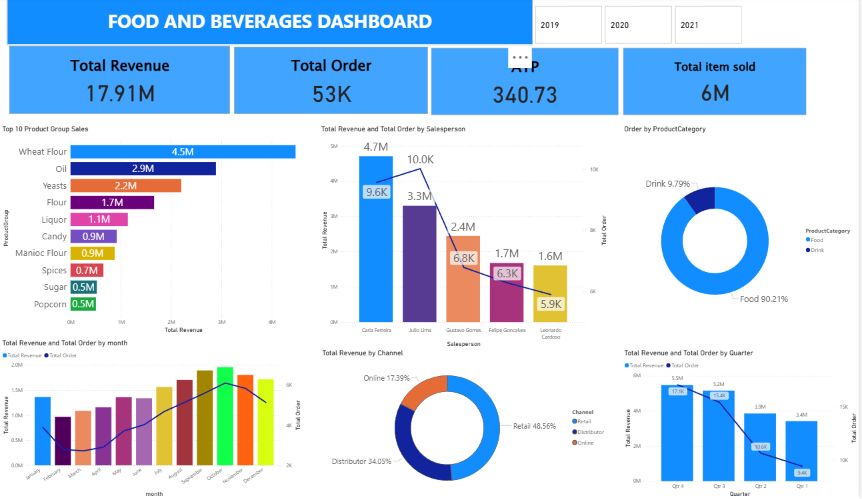

The page's visual inventory and layout, read from the dashboard file:
{"tool":"powerbi","page":{"name":"Page 1","canvas":[2050,1200],"ordinal":0},"visuals":[{"type":"cardVisual","title":"Revenue Total","fields":{"Data":["Sales.Total Revenue"]},"box":[17.5,112.5,537.5,172.5],"z":0},{"type":"cardVisual","title":"Revenue Total","fields":{"Data":["Sales.ATP"]},"box":[1025,117.5,457.5,170],"z":1000},{"type":"cardVisual","title":"Revenue Total","fields":{"Data":["Sales.Total Order"]},"box":[555,115,472.5,170],"z":2000},{"type":"cardVisual","title":"Revenue Total","fields":{"Data":["Sales.Total item sold"]},"box":[1482.5,117.5,447.5,170],"z":3000},{"type":"barChart","title":"Top 10  Product Group Sales","fields":{"Category":["Product.ProductGroup"],"Y":["Sales.Total Revenue"],"Series":["Product.ProductGroup"]},"box":[0,305,722.5,502.5],"z":4000},{"type":"lineClusteredColumnComboChart","fields":{"Category":["Sales.Salesperson"],"Y2":["Sales.Total Order"],"Y":["Sales.Total Revenue"]},"box":[762.5,305,692.5,535],"z":5000},{"type":"donutChart","title":"Order by ProductCategory","fields":{"Y":["Sales.Total Order"],"Category":["Product.ProductCategory"]},"box":[1485,305,565,535],"z":6000},{"type":"lineClusteredColumnComboChart","fields":{"Category":["datetable.month"],"Y":["Sales.Total Revenue"],"Y2":["Sales.Total Order"]},"box":[0,817,723,383],"z":7000},{"type":"donutChart","fields":{"Category":["Sales.Channel"],"Y":["Sales.Total Revenue"]},"box":[763,841,693,359],"z":8000},{"type":"lineClusteredColumnComboChart","fields":{"Category":["datetable.Quarter"],"Y":["Sales.Total Revenue"],"Y2":["Sales.Total Order"]},"box":[1485,841,565,359],"z":9000},{"type":"shape","box":[17.5,0,1255,115],"z":10000},{"type":"advancedSlicerVisual","fields":{"Values":["datetable.year"]},"box":[1272.4,16.7,506.1,100.3],"z":11000}]}

Visuals, with their boxes in screenshot pixels (x1, y1, x2, y2), scaled from the page's 2050x1200 canvas onto the 862x499 screenshot:
"Revenue Total" cardVisual: 7,47,233,119
"Revenue Total" cardVisual: 431,49,623,120
"Revenue Total" cardVisual: 233,48,432,119
"Revenue Total" cardVisual: 623,49,812,120
"Top 10  Product Group Sales" barChart: 0,127,304,336
lineClusteredColumnComboChart - Sales.Salesperson x Sales.Total Order: 321,127,612,349
"Order by ProductCategory" donutChart: 624,127,861,349
lineClusteredColumnComboChart - datetable.month x Sales.Total Revenue: 0,340,304,498
donutChart - Sales.Channel x Sales.Total Revenue: 321,350,612,498
lineClusteredColumnComboChart - datetable.Quarter x Sales.Total Revenue: 624,350,861,498
shape: 7,0,535,48
advancedSlicerVisual - datetable.year: 535,7,748,49
